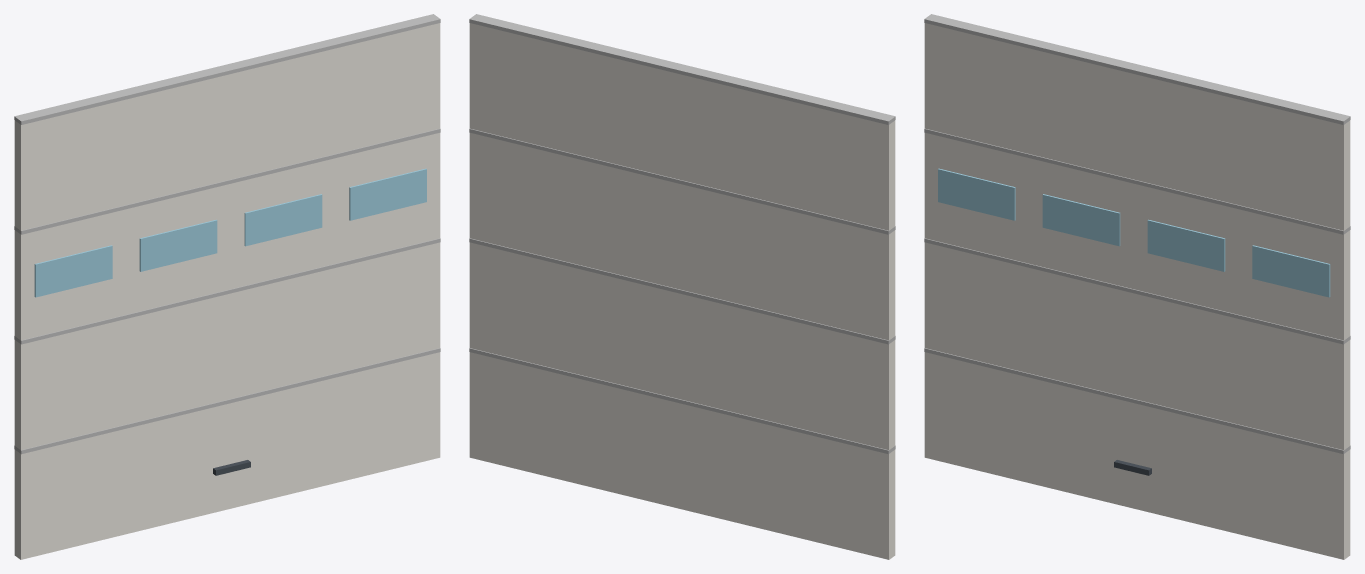
File: PRP_GarageDoor.fbx
The picture shows the model from 3 angles, left to right: view 1: azimuth 30°, elevation 25°; view 2: azimuth 150°, elevation 25°; view 3: azimuth 330°, elevation 25°; orthographic projection.
Parts seen in each view (by area): view 1: PRP_GarageDoor; view 2: PRP_GarageDoor; view 3: PRP_GarageDoor.
Part boxes in pixels (box(x1,y1,x2,y2)): PRP_GarageDoor: box(14, 14, 440, 559); PRP_GarageDoor: box(469, 14, 895, 559); PRP_GarageDoor: box(924, 14, 1350, 559).
Bounding box in the file's own units: 12 × 12 × 0.47.
